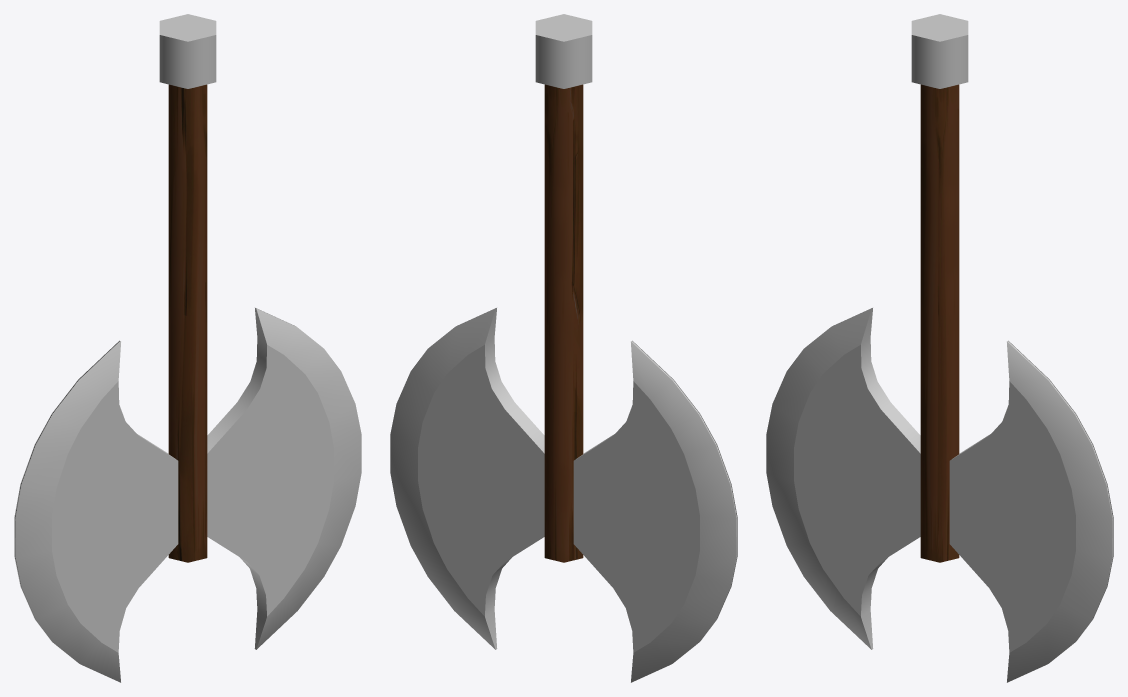
File: obstacle_3_002.fbx
3 renders of one model, left to right at view 1: azimuth 30°, elevation 25°; view 2: azimuth 150°, elevation 25°; view 3: azimuth 330°, elevation 25°, orthographic.
Parts seen in each view (by area): view 1: obstacle_3_002; view 2: obstacle_3_002; view 3: obstacle_3_002.
Boxes of the visible parts, <box> form: obstacle_3_002: <box>14,14,361,682</box>; obstacle_3_002: <box>390,14,737,682</box>; obstacle_3_002: <box>766,14,1113,682</box>.
Bounding box in the file's own units: 265 × 37.8 × 468.
